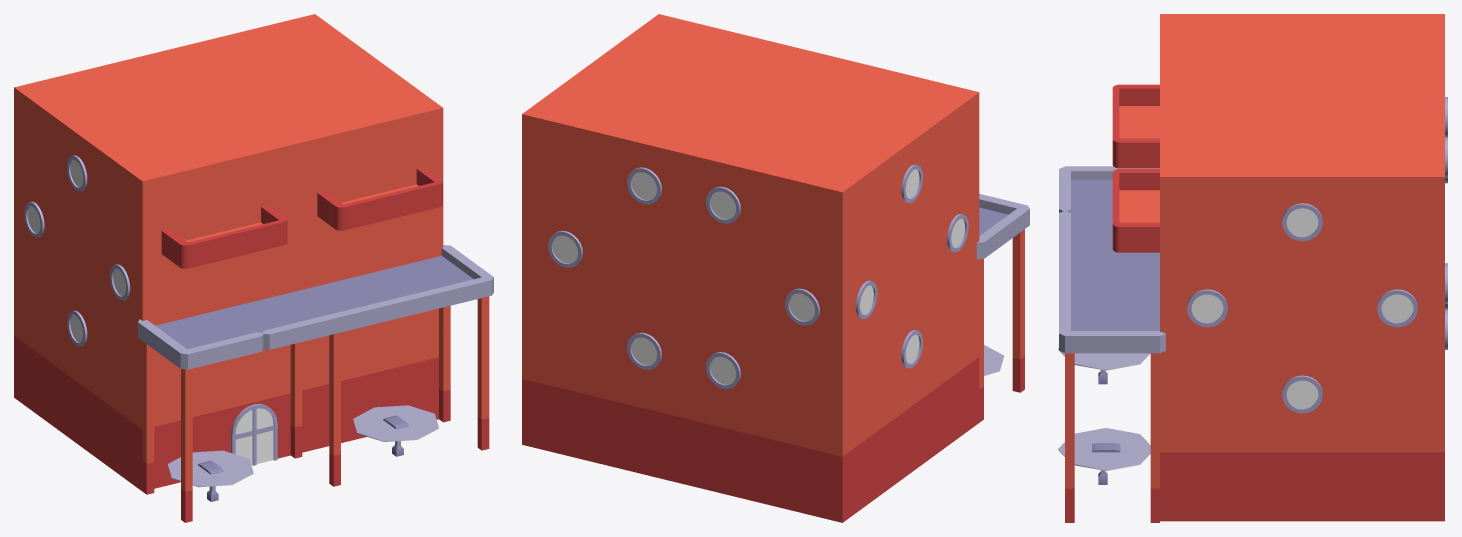
Rendered from lame_cafe.glb.
The picture shows the model from 3 angles, left to right: view 1: azimuth 30°, elevation 25°; view 2: azimuth 150°, elevation 25°; view 3: azimuth 270°, elevation 25°; orthographic projection. The views are drawn at different scales.
Visible parts, largest first — view 1: mergedBlocks(Clone); view 2: mergedBlocks(Clone); view 3: mergedBlocks(Clone).
Part boxes in pixels (x1=…): mergedBlocks(Clone): x1=14, y1=14, x2=493, y2=522; mergedBlocks(Clone): x1=522, y1=14, x2=1029, y2=522; mergedBlocks(Clone): x1=1058, y1=14, x2=1447, y2=522.
Bounding box in the file's own units: 4.23 × 4 × 4.1.
